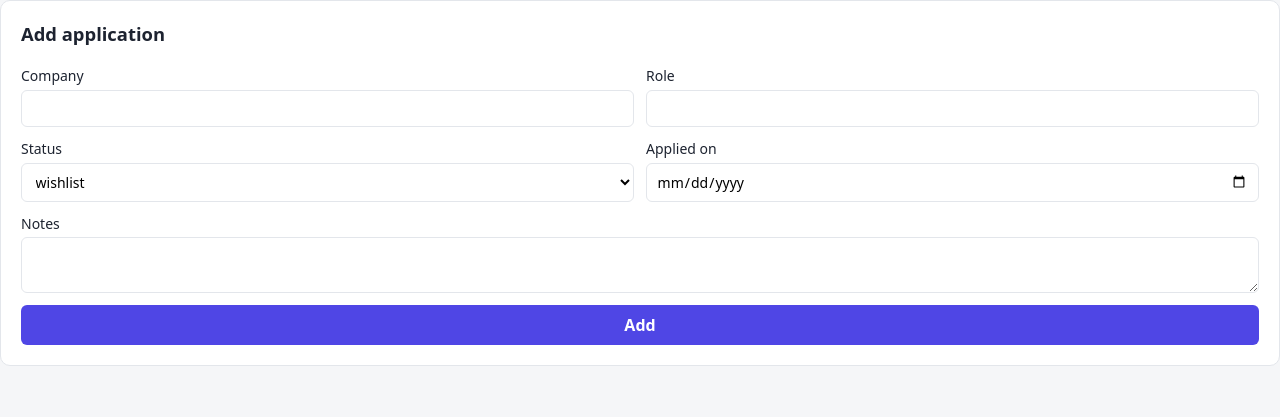
<ApplicationForm /> › shows the API error message if saving fails
The image size is (1280, 417).
Type "Acme" into the field labelled "Company" at (328, 108), box [21, 90, 634, 127]
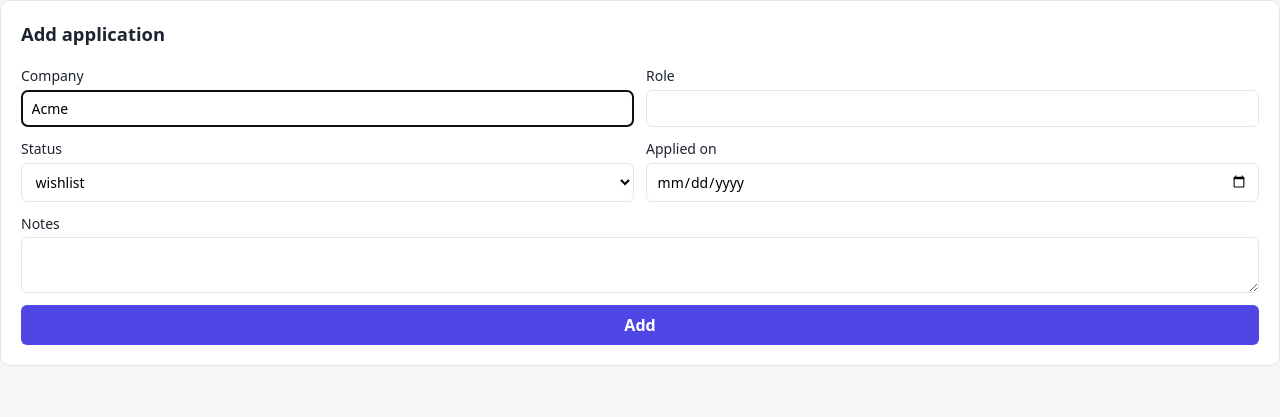
Type "Dev" into the field labelled "Role" at (952, 108), box [646, 90, 1259, 127]
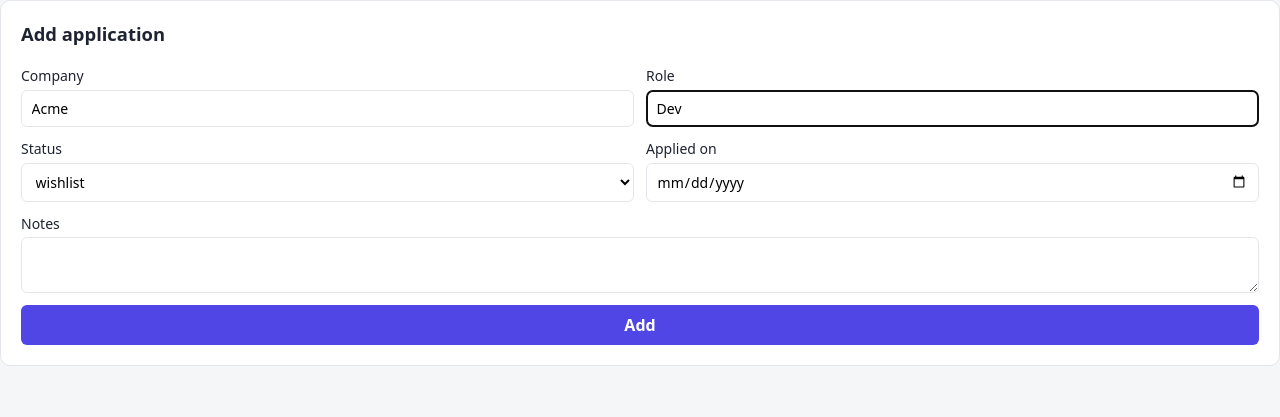
Click the button "Add" at (640, 325), box [21, 305, 1259, 345]
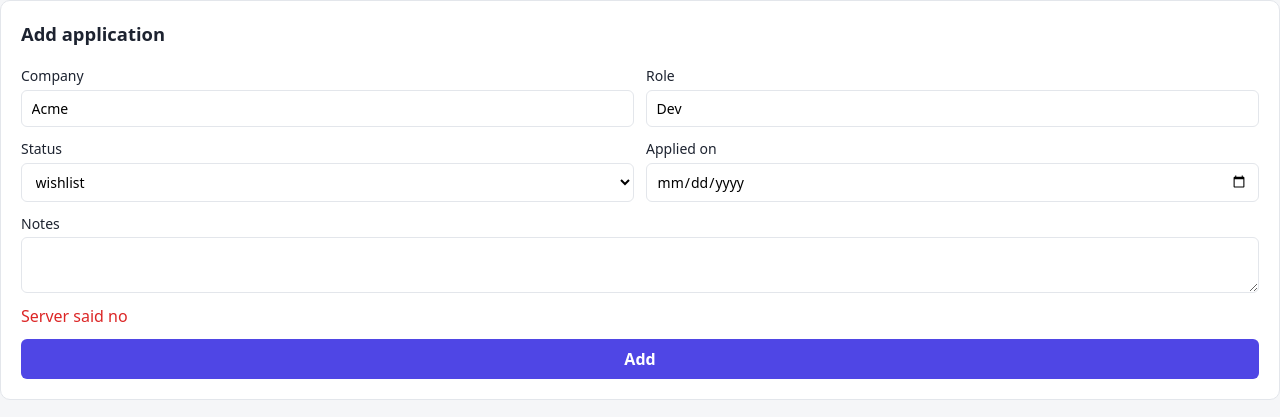
Check: the message reads "Server said no", box [21, 305, 128, 327]
